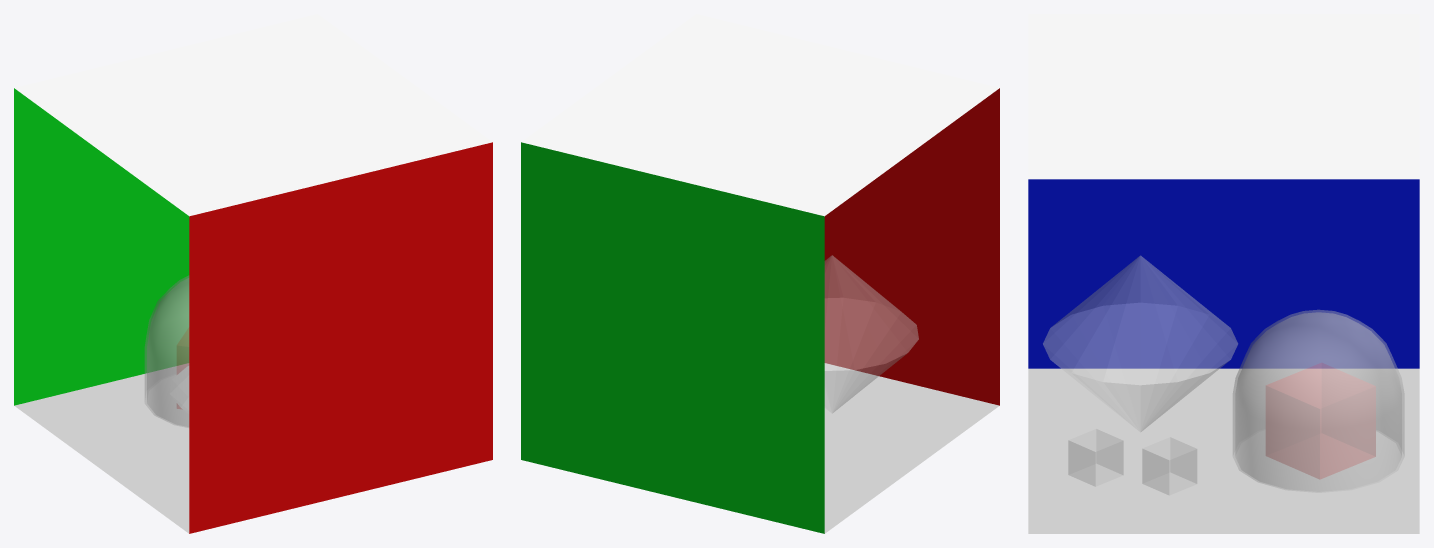
File: glass.glb
The picture shows the model from 3 angles, left to right: view 1: azimuth 30°, elevation 25°; view 2: azimuth 150°, elevation 25°; view 3: azimuth 270°, elevation 25°; orthographic projection. The views are drawn at different scales.
Parts seen in each view (by area): view 1: left, ceiling, right, floor, dome, artifact; view 2: right, ceiling, left, floor, artifact; view 3: back, ceiling, floor, dome, artifact, smallCube, smallCube.002, smallCube.001.
Boxes of the visible parts, x1=… form: left: x1=189, y1=142, x2=492, y2=533; ceiling: x1=14, y1=14, x2=492, y2=216; right: x1=14, y1=88, x2=189, y2=405; floor: x1=14, y1=363, x2=189, y2=533; dome: x1=145, y1=275, x2=189, y2=427; artifact: x1=170, y1=365, x2=188, y2=413; right: x1=521, y1=142, x2=824, y2=533; ceiling: x1=521, y1=14, x2=999, y2=216; left: x1=824, y1=88, x2=999, y2=405; floor: x1=824, y1=363, x2=999, y2=533; artifact: x1=825, y1=255, x2=918, y2=413; back: x1=1028, y1=179, x2=1419, y2=368; ceiling: x1=1028, y1=14, x2=1419, y2=179; floor: x1=1028, y1=368, x2=1419, y2=533; dome: x1=1233, y1=310, x2=1404, y2=492; artifact: x1=1043, y1=255, x2=1237, y2=432; smallCube: x1=1266, y1=363, x2=1375, y2=478; smallCube.002: x1=1142, y1=437, x2=1196, y2=495; smallCube.001: x1=1068, y1=429, x2=1123, y2=486.
Size of the model in its own units: 2 by 2.02 by 2.
